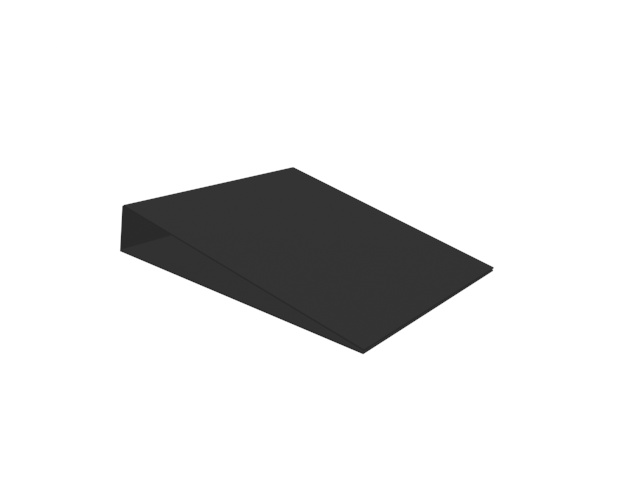ring_binder: (113, 161, 496, 360)
